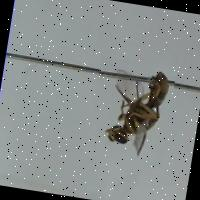Oriental-fruit-fly: (86, 56, 178, 168)
